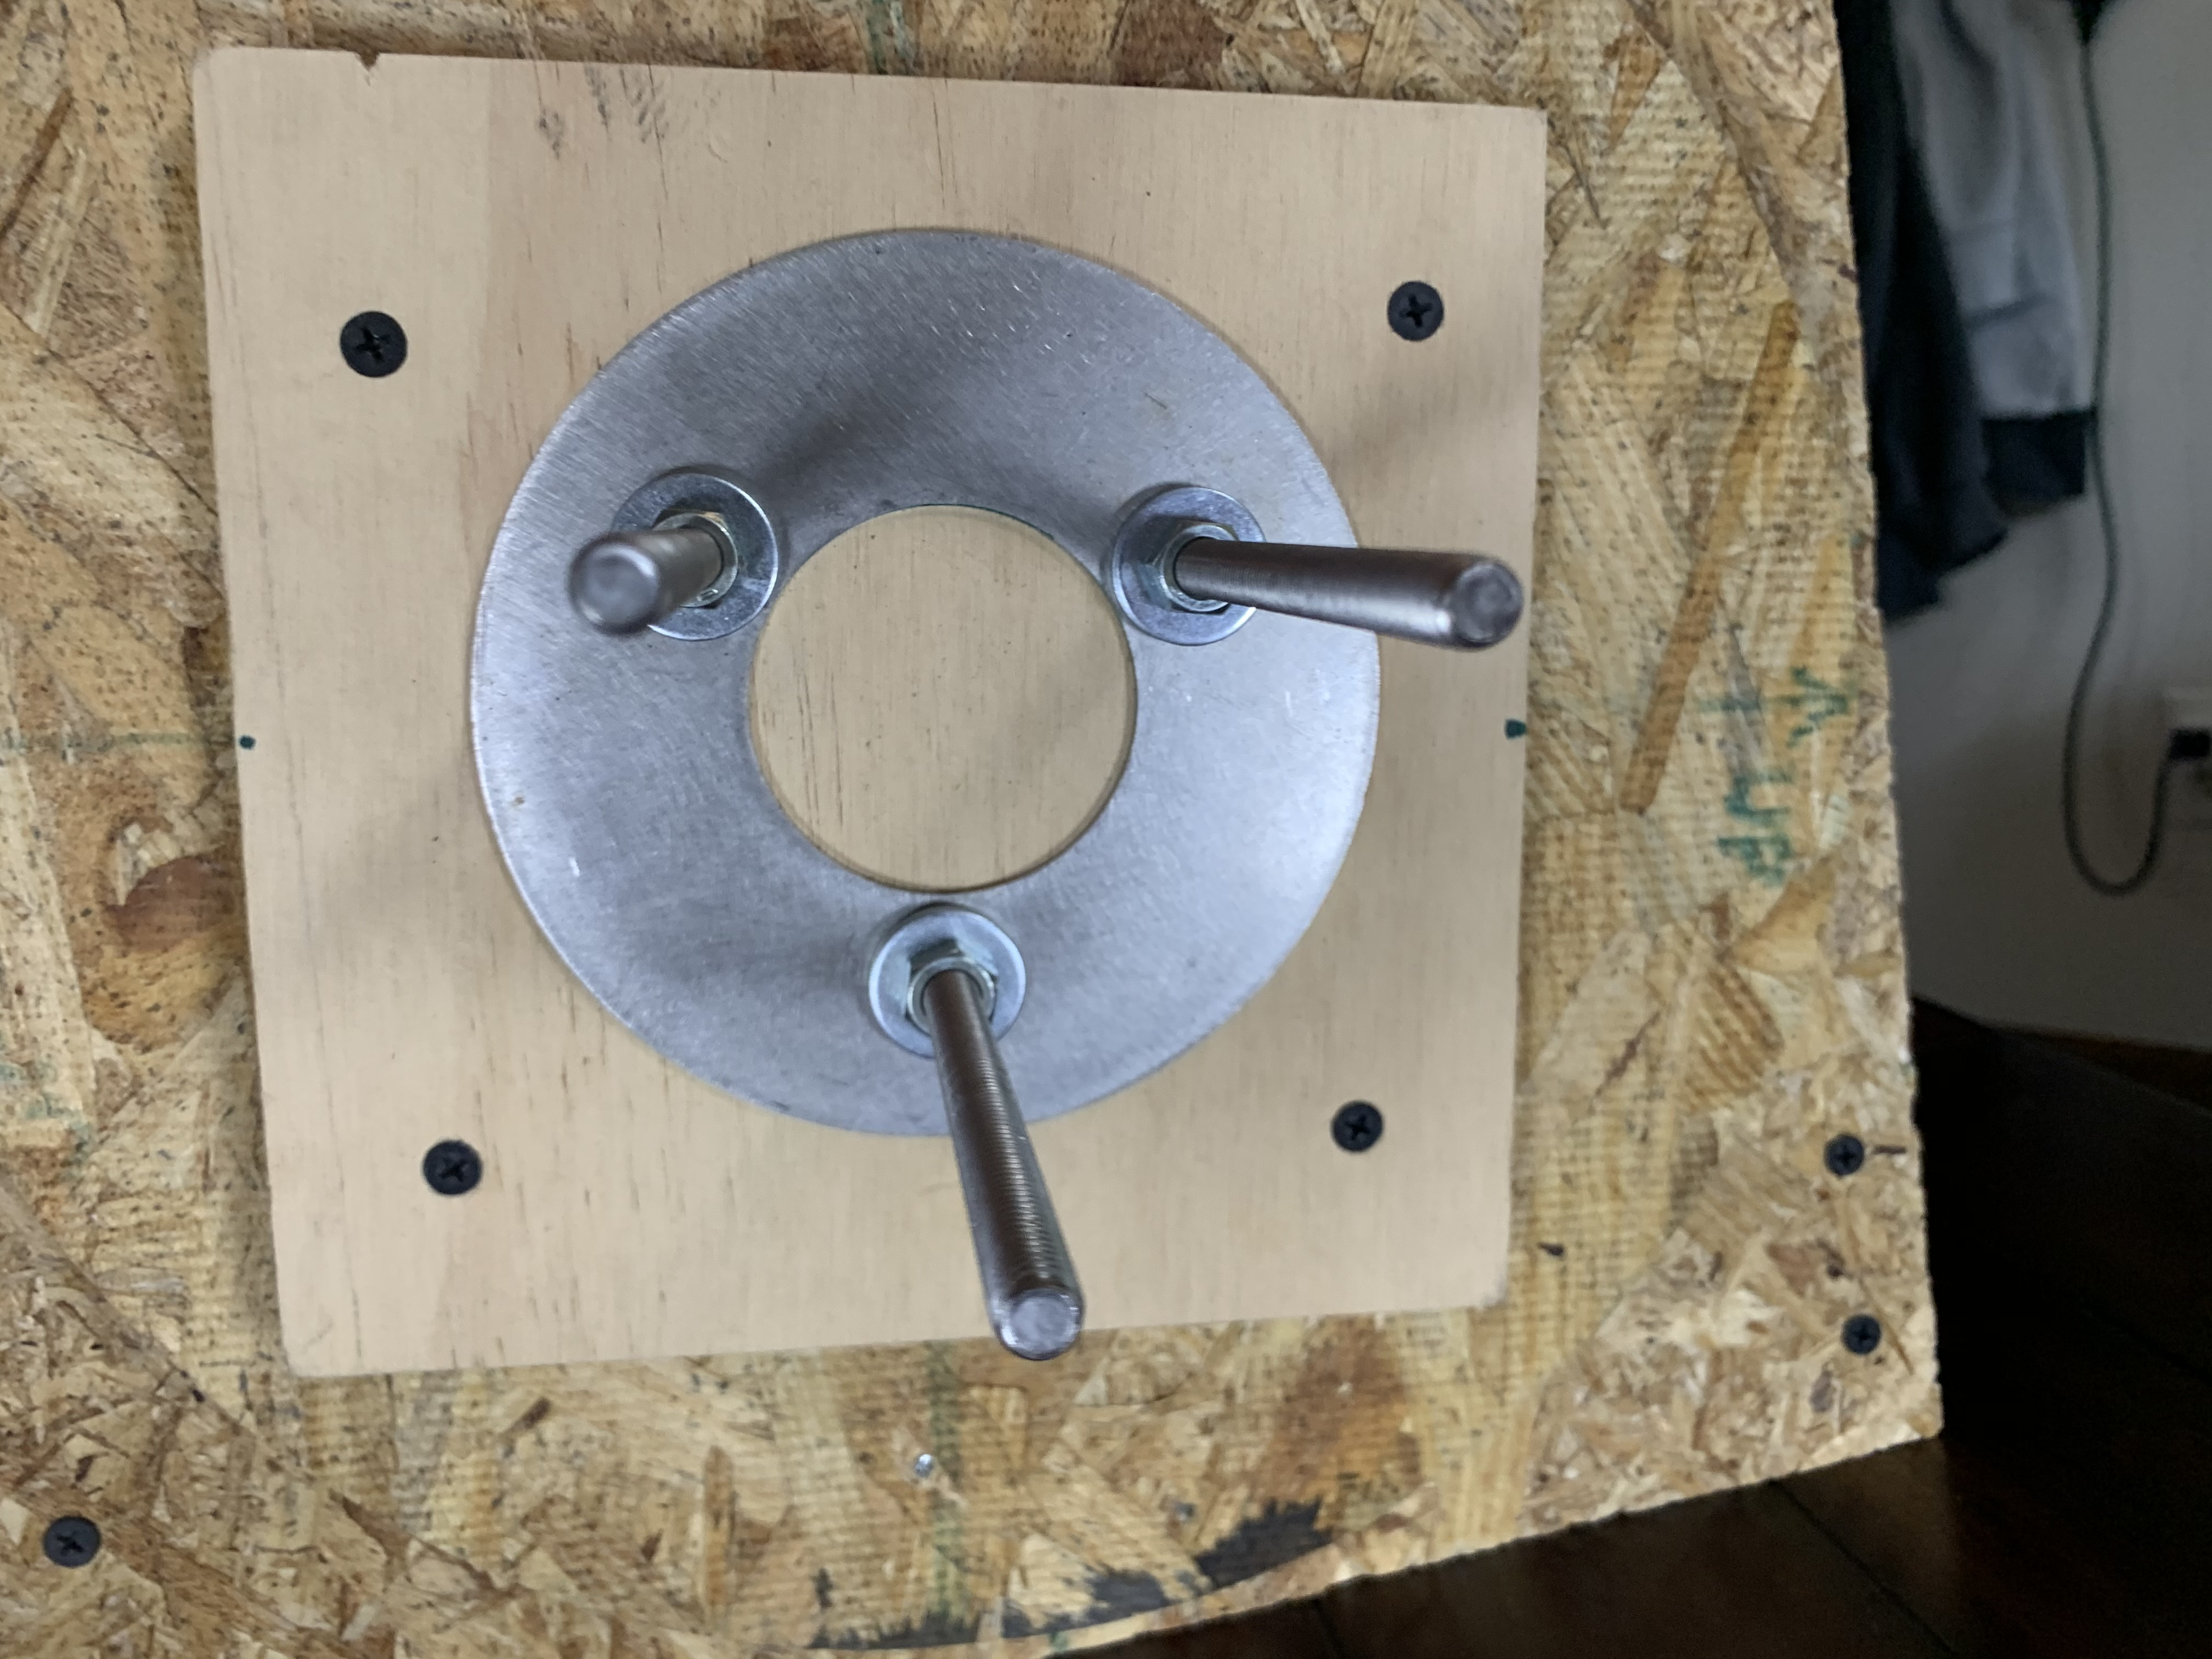bolt: (603, 469, 787, 643), (1103, 486, 1268, 653), (860, 901, 1031, 1058)
